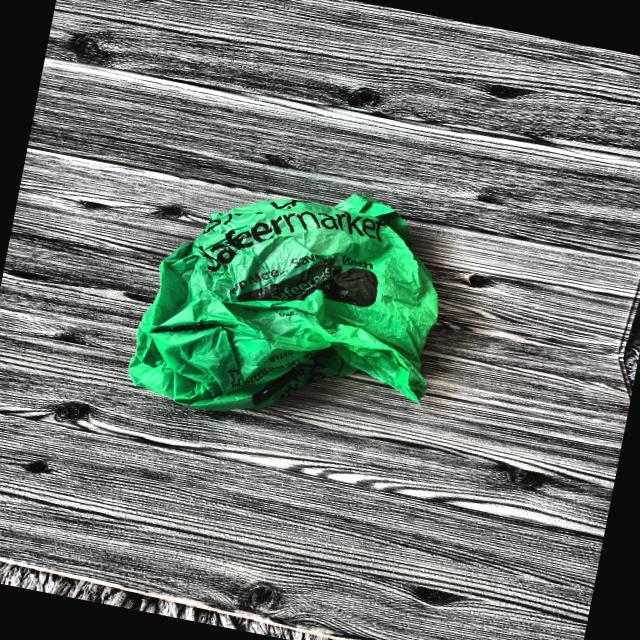plastic bag: (114, 158, 455, 460)
